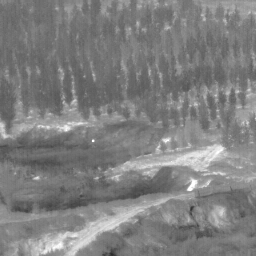aircraft: (92, 140, 94, 142)
